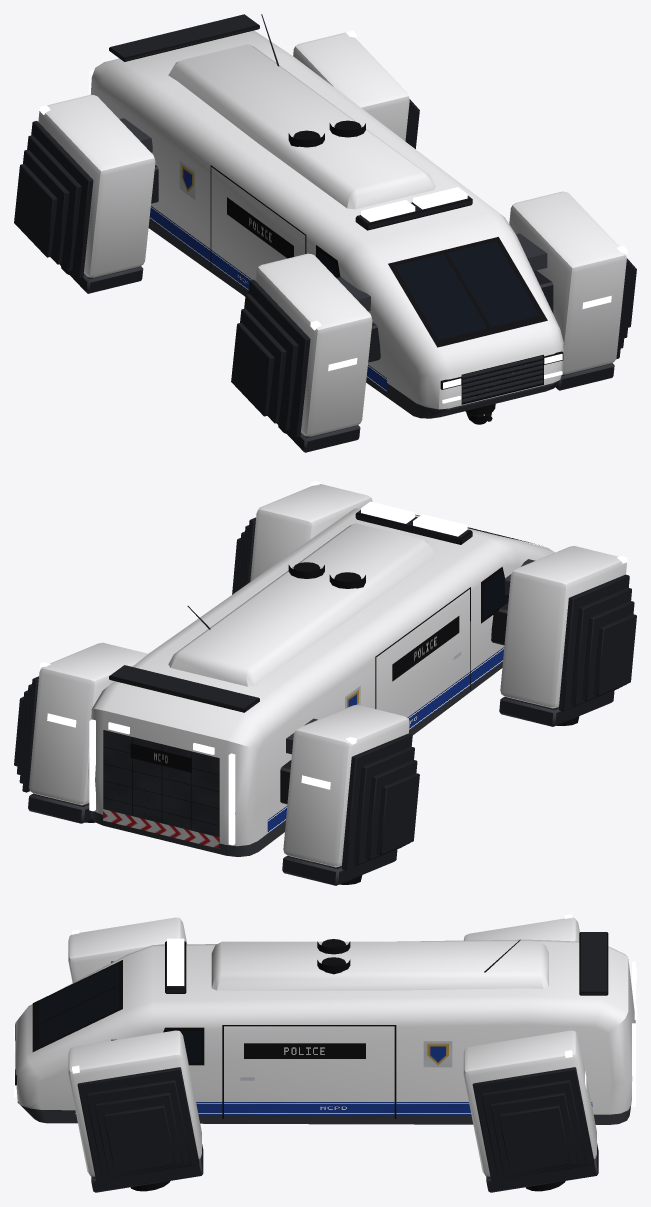
The picture shows the model from 3 angles, top to bottom: view 1: azimuth 30°, elevation 25°; view 2: azimuth 150°, elevation 25°; view 3: azimuth 270°, elevation 25°; orthographic projection. The views are drawn at different scales.
Visible parts, largest first — view 1: av_flyer; view 2: av_flyer; view 3: av_flyer.
Boxes of the visible parts, left/top/right/bottom form: av_flyer: left=14, top=14, right=636, bottom=452; av_flyer: left=14, top=481, right=636, bottom=885; av_flyer: left=14, top=914, right=636, bottom=1192.
Bounding box in the file's own units: 5.38 × 3.16 × 8.67.
Materials: 5 (1 with a texture image).
